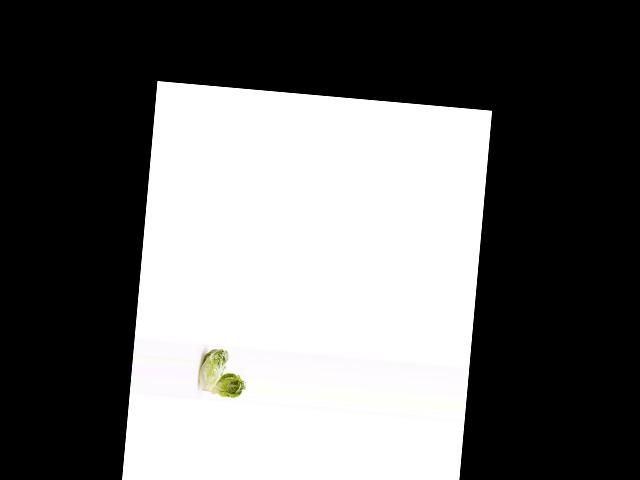lettuce: (195, 344, 232, 396)
